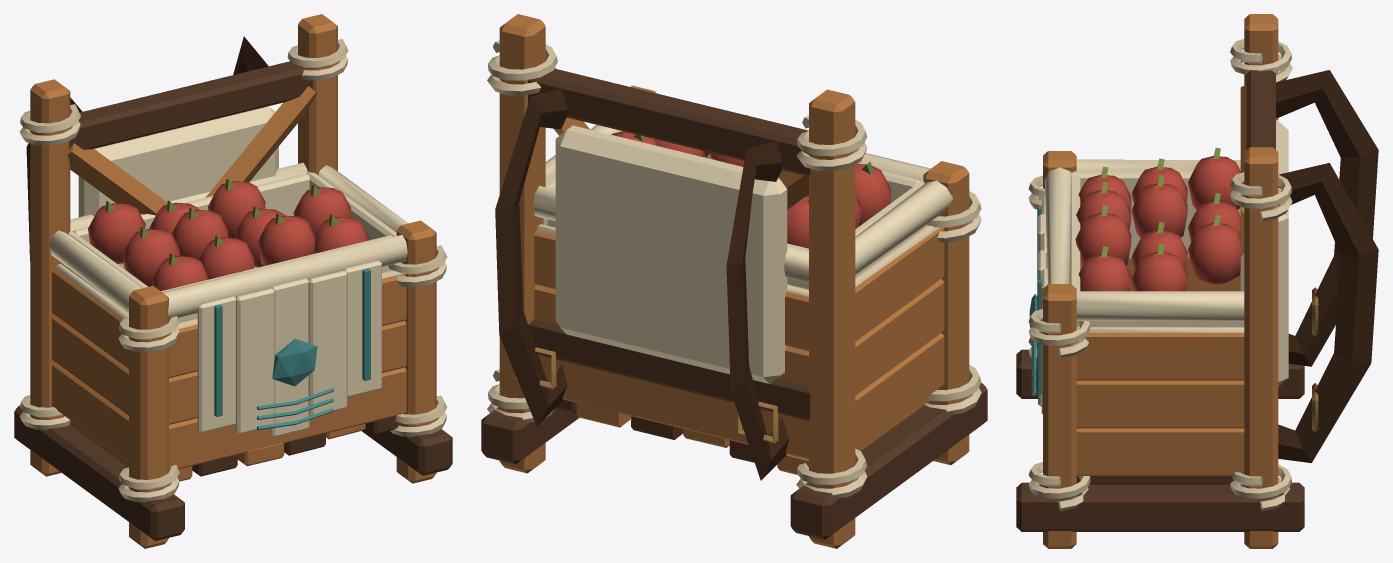
File: prop_trade_pack_apple_a.glb
The picture shows the model from 3 angles, left to right: view 1: azimuth 30°, elevation 25°; view 2: azimuth 150°, elevation 25°; view 3: azimuth 270°, elevation 25°; orthographic projection. The views are drawn at different scales.
Visible parts, largest first — view 1: prop_trade_pack_apple_a_LOD0; view 2: prop_trade_pack_apple_a_LOD0; view 3: prop_trade_pack_apple_a_LOD0.
Boxes of the visible parts, box(x1,y1,x2,y2) form: prop_trade_pack_apple_a_LOD0: box(14, 14, 452, 548); prop_trade_pack_apple_a_LOD0: box(481, 14, 987, 548); prop_trade_pack_apple_a_LOD0: box(1016, 14, 1378, 548).
Size of what is drawn, in the model's own units: 0.8384 by 0.96 by 0.8041.
